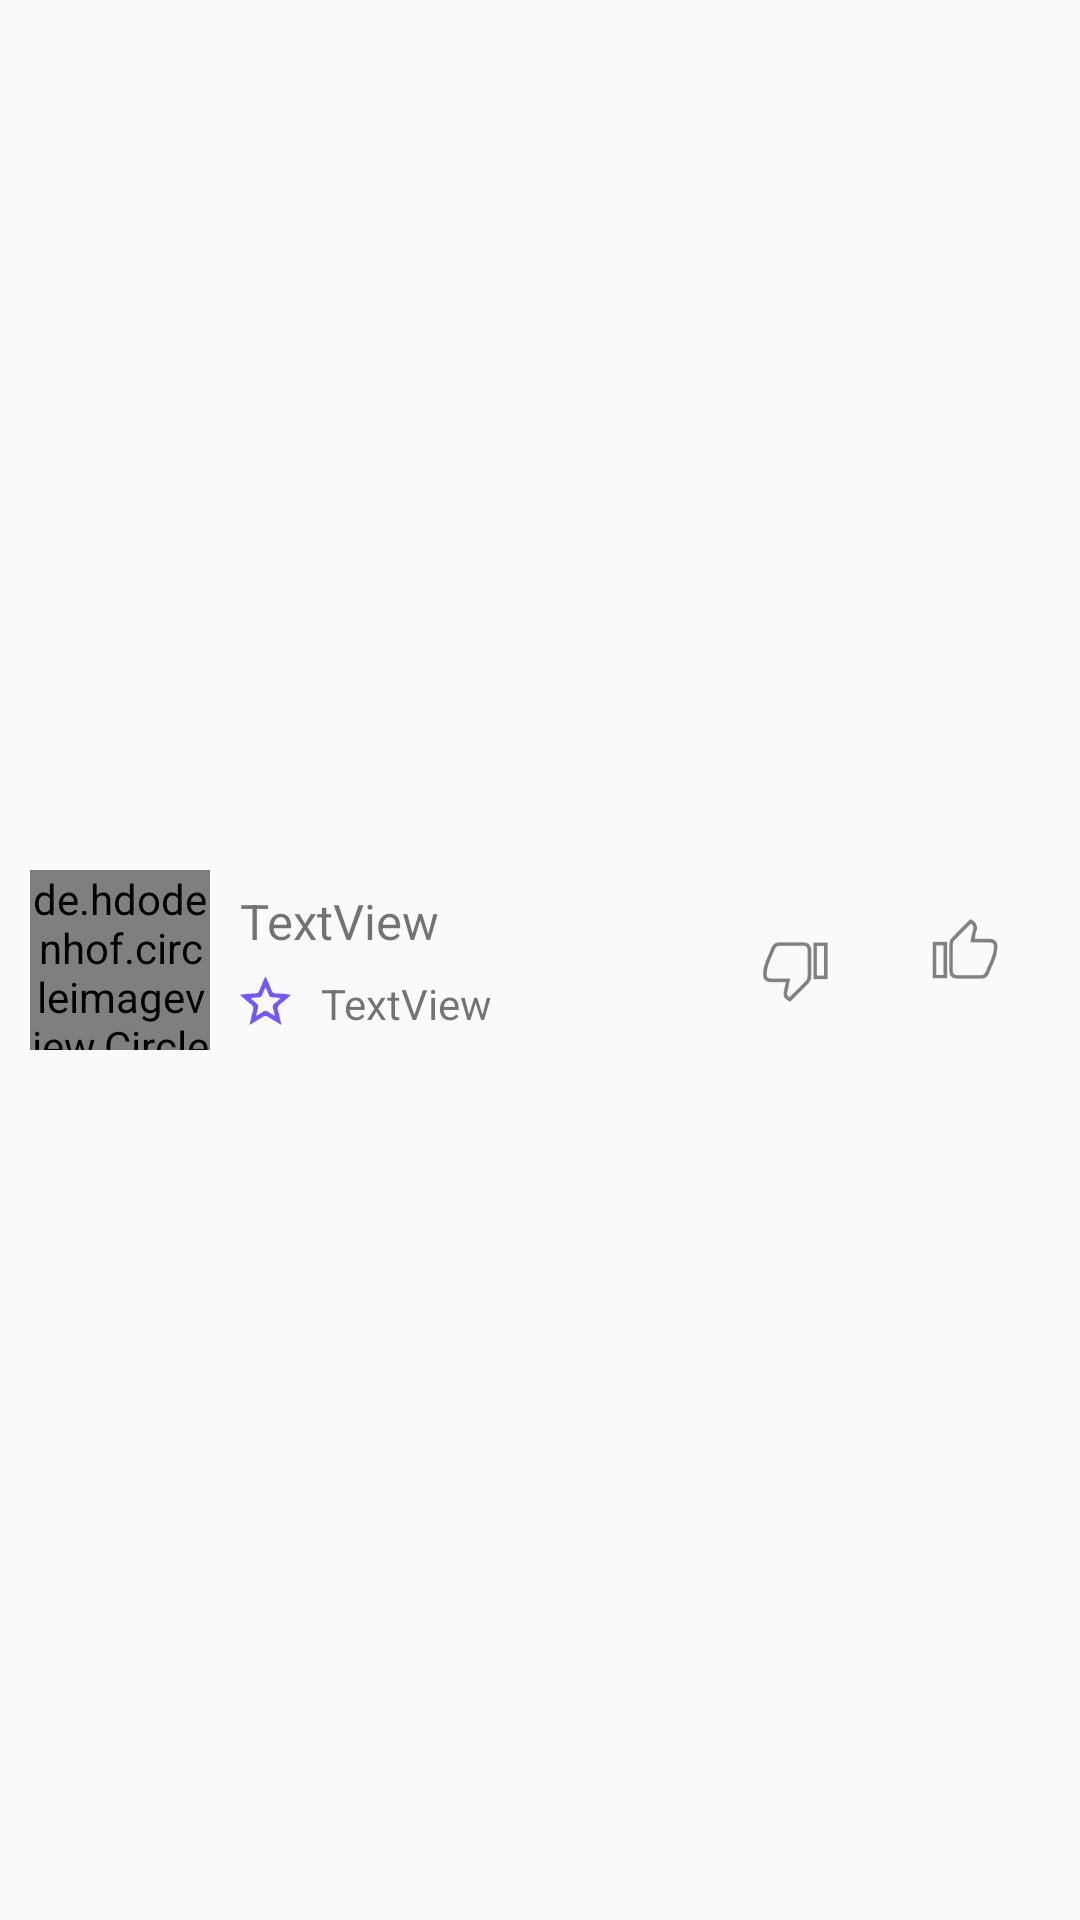

Point at icon controls on the screen. Image size 1080 × 1920, points as (x=x, y=y).
star: (x=265, y=1000)
thumb down: (x=795, y=972)
thumb up: (x=965, y=949)
